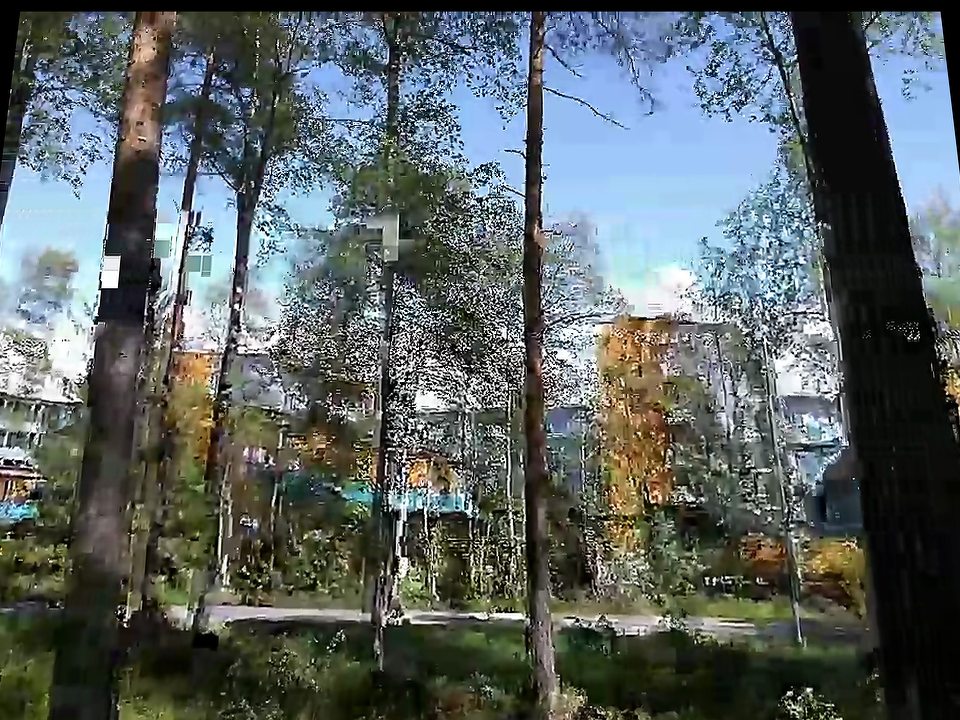branch: (546, 81, 628, 132), (546, 42, 597, 82)
trunk: (519, 40, 566, 710)
